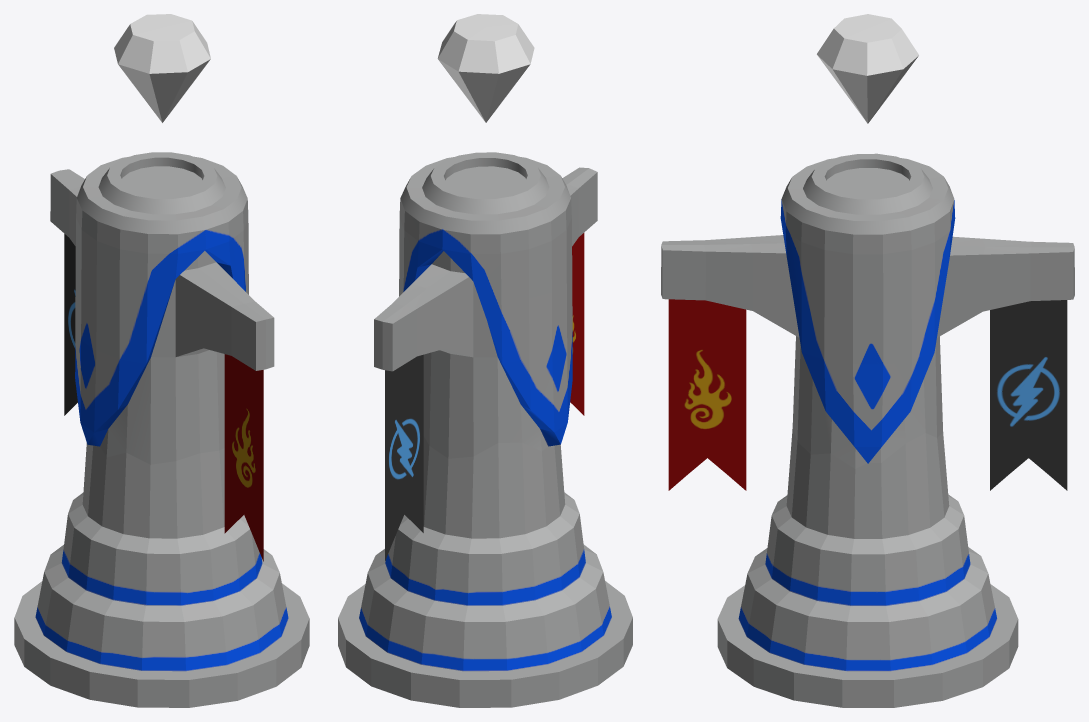
The model's file is Normal_Turret.fbx.
3 views of the same model, side by side, from view 1: azimuth 30°, elevation 25°; view 2: azimuth 150°, elevation 25°; view 3: azimuth 270°, elevation 25° (orthographic).
Visible parts, largest first — view 1: Cylinder002, Object001, Plane001, Hedra002, Plane002; view 2: Cylinder002, Object001, Hedra002, Plane002, Plane001; view 3: Object001, Cylinder002, Plane001, Plane002, Hedra002.
Boxes of the visible parts, box(x1,y1,x2,y2) form: Cylinder002: box(14, 443, 309, 707); Object001: box(50, 152, 274, 464); Plane001: box(224, 354, 263, 561); Hedra002: box(114, 14, 210, 122); Plane002: box(64, 234, 77, 415); Cylinder002: box(338, 436, 632, 707); Object001: box(374, 152, 597, 458); Hedra002: box(437, 14, 534, 122); Plane002: box(385, 354, 423, 560); Plane001: box(570, 233, 584, 415); Object001: box(661, 153, 1074, 468); Cylinder002: box(717, 427, 1018, 707); Plane001: box(668, 299, 746, 490); Plane002: box(990, 300, 1067, 490); Hedra002: box(817, 14, 918, 123).
Bounding box in the file's own units: 30.21 × 71.28 × 43.23.
